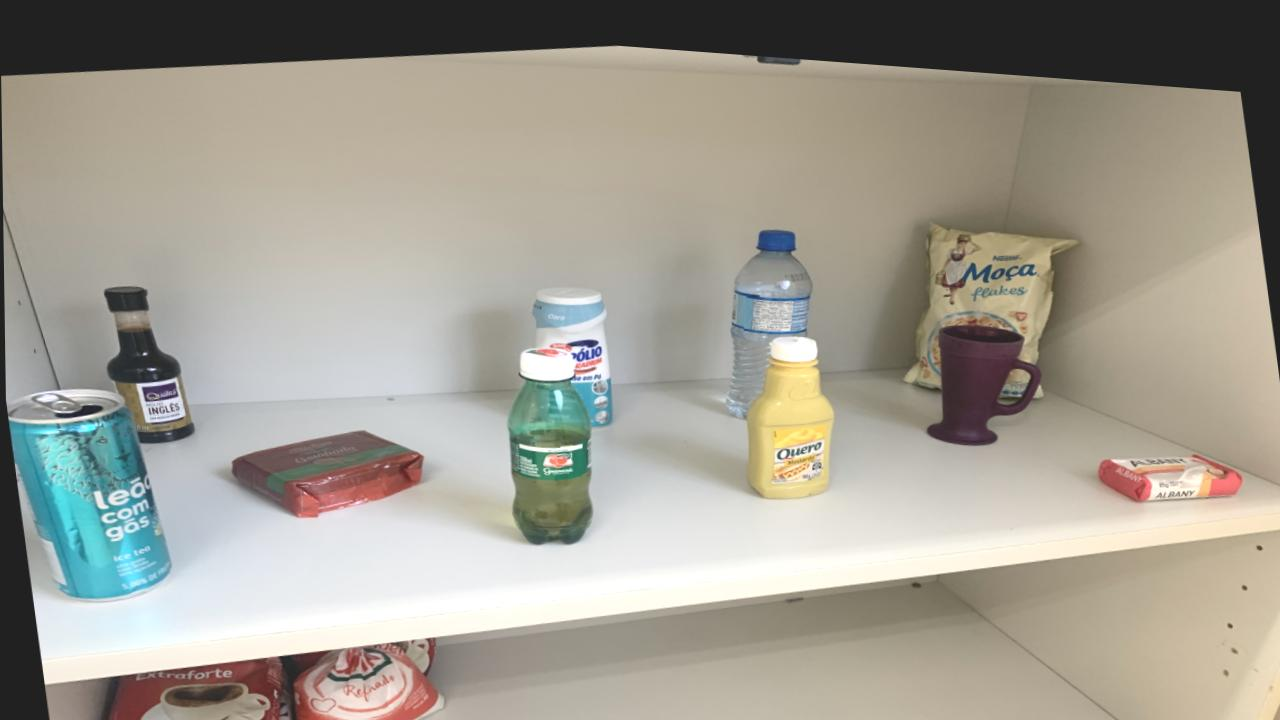Cleaner-Cleanup_Items: (531, 277, 612, 418)
English_Sauce-Pantry_Items: (103, 284, 193, 441)
Flakes-Snacks: (902, 210, 1076, 373)
Guarana-Drinks: (506, 338, 591, 536)
Guava-Snacks: (230, 425, 422, 512)
Mustard-Pantry_Items: (745, 323, 833, 487)
Soap-Cleanup_Items: (1097, 435, 1243, 483)
Tea-Drinks: (5, 388, 169, 600)
Water_Bottle-Drinks: (725, 217, 812, 406)
